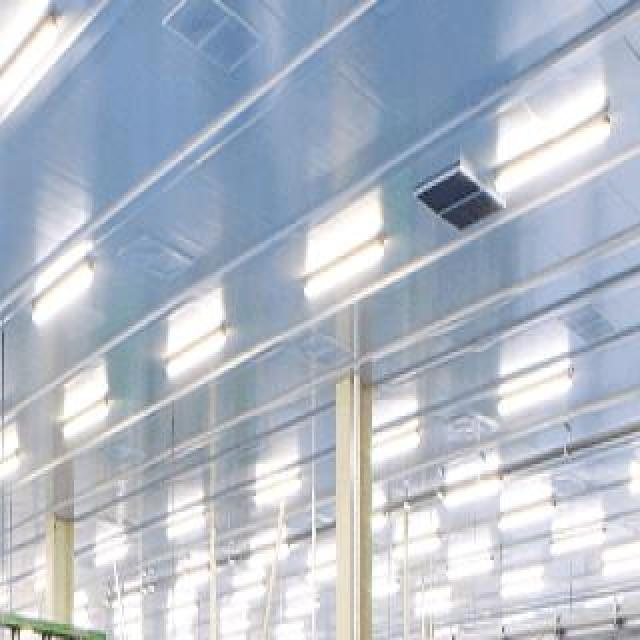fluorescent tube: (480, 107, 631, 195), (0, 8, 58, 138), (27, 246, 109, 337), (147, 324, 253, 391), (300, 242, 396, 313), (497, 356, 587, 429), (345, 418, 431, 482), (56, 393, 125, 455), (240, 467, 309, 513), (493, 491, 563, 531), (158, 500, 220, 544), (87, 540, 142, 576), (0, 438, 26, 494)
